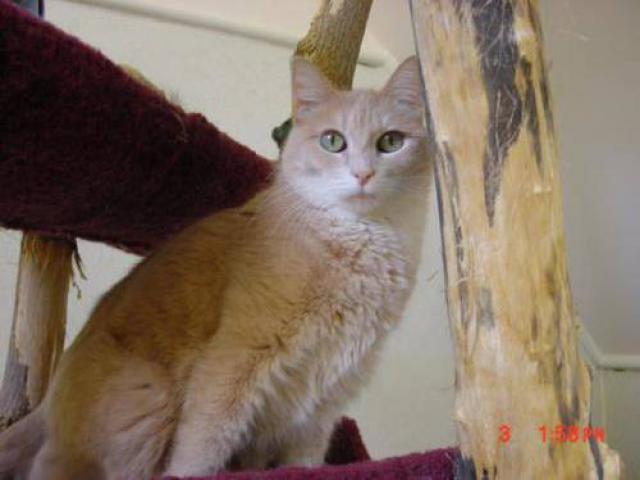cat: (38, 45, 438, 479)
